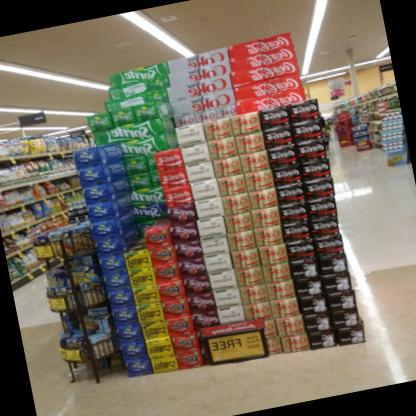empty_space: (116, 197, 152, 253), (141, 174, 170, 226)
